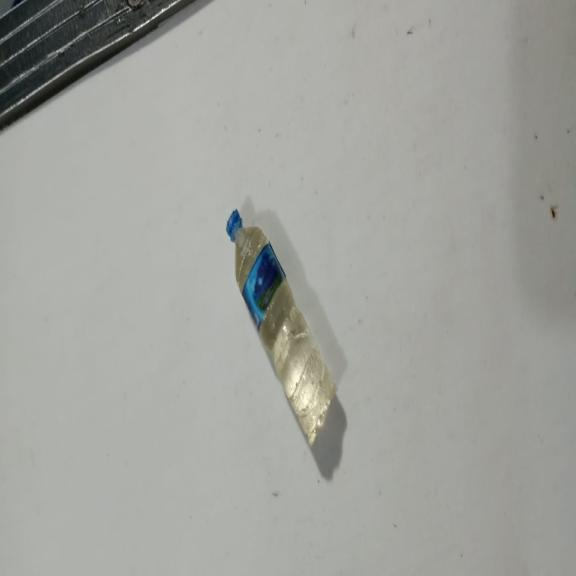Plastik: (227, 205, 337, 452)
